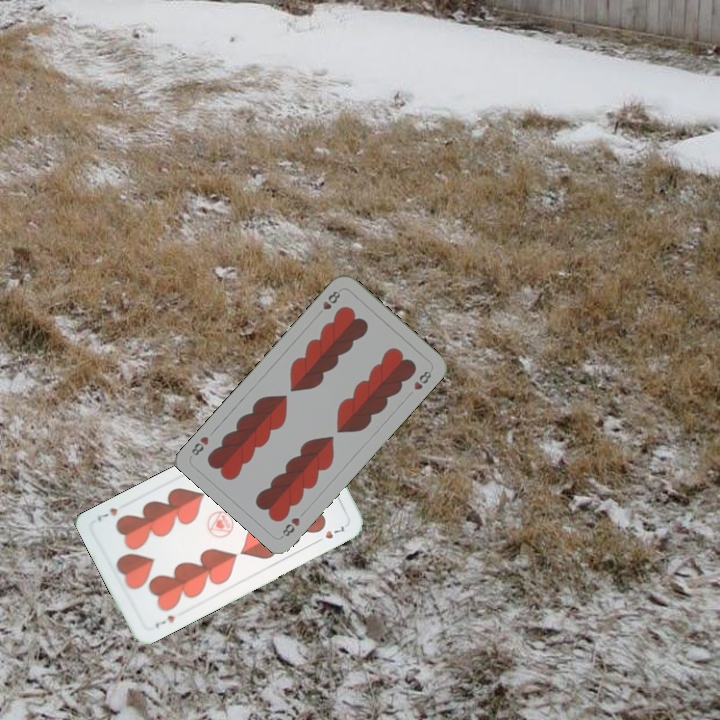H7: (151, 611, 177, 630)
H8: (313, 287, 343, 318), (277, 513, 303, 540)
